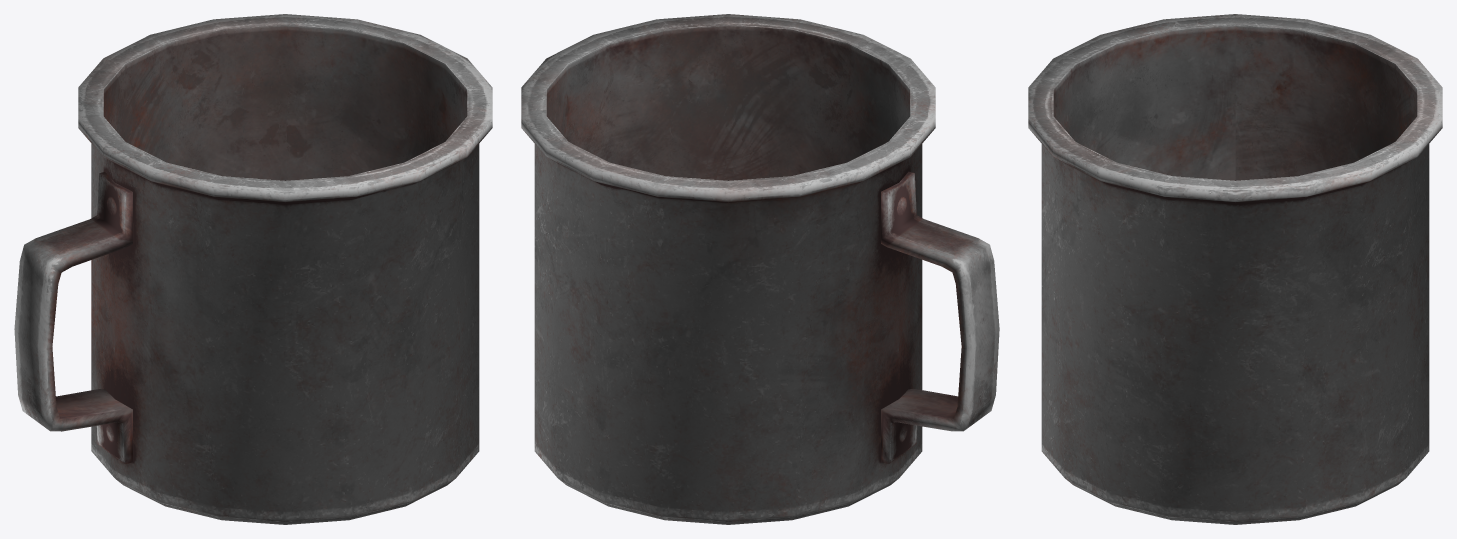
The model's file is uploads_files_4276276_Old_Cup.FBX.
3 views of the same model, side by side, from view 1: azimuth 30°, elevation 25°; view 2: azimuth 150°, elevation 25°; view 3: azimuth 270°, elevation 25° (orthographic).
Parts seen in each view (by area): view 1: Old_Cup; view 2: Old_Cup; view 3: Old_Cup.
Boxes of the visible parts, box(x1,y1,x2,y2) form: Old_Cup: box(14, 14, 492, 524); Old_Cup: box(521, 14, 999, 524); Old_Cup: box(1028, 14, 1442, 524).
Size of the model in its own units: 12.09 by 9.02 by 9.87.
1 material, 1 textured.
